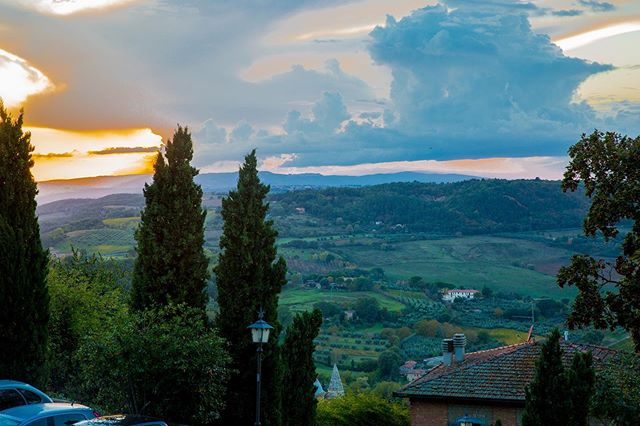building: (407, 329, 606, 426)
sky: (1, 1, 633, 162)
tree: (552, 130, 640, 400), (131, 111, 213, 322), (1, 98, 56, 394), (213, 142, 285, 352), (522, 333, 594, 422)
vegetation: (288, 178, 570, 238)
